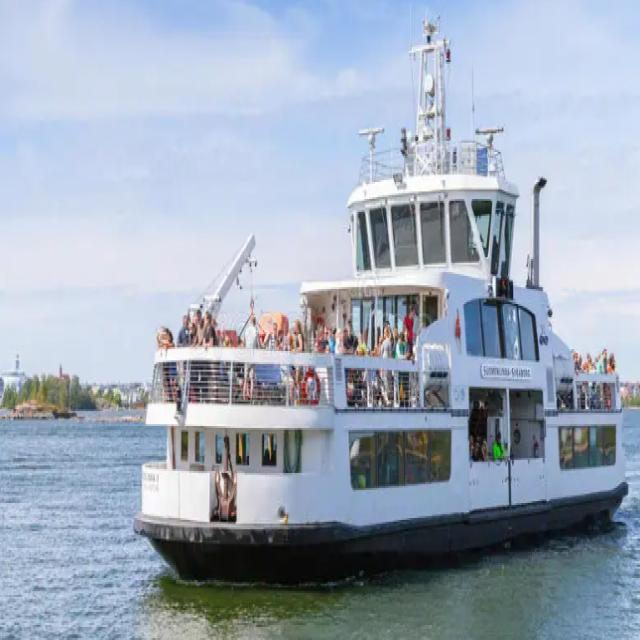passenger ship: (136, 46, 627, 555)
